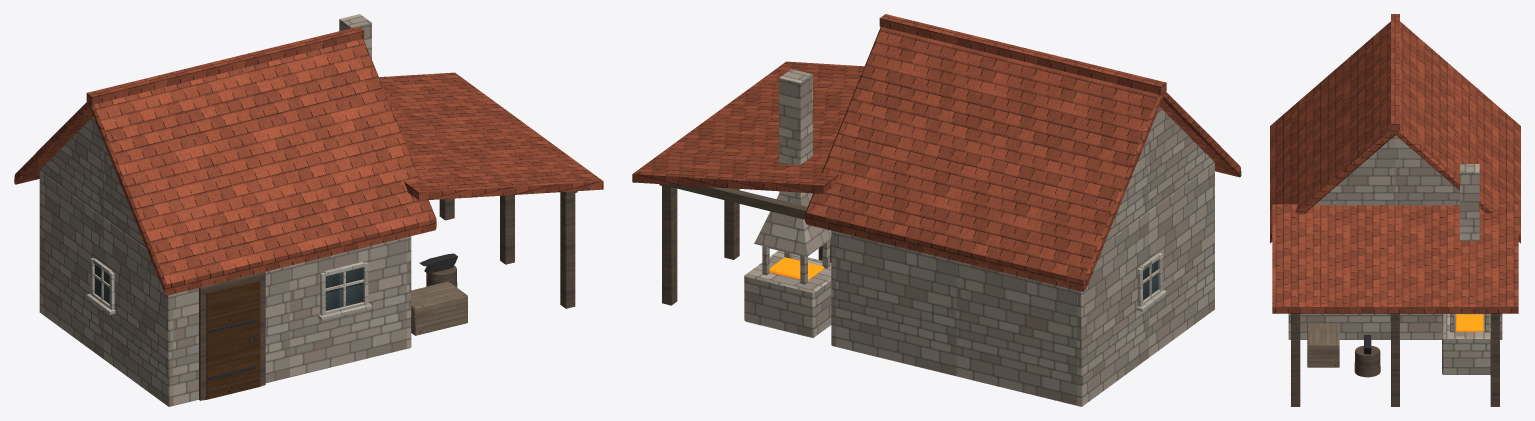
The model's file is smithy.glb.
3 renders of one model, left to right at view 1: azimuth 30°, elevation 25°; view 2: azimuth 150°, elevation 25°; view 3: azimuth 270°, elevation 25°, orthographic. The views are drawn at different scales.
Parts seen in each view (by area): view 1: Smithy; view 2: Smithy; view 3: Smithy.
Part boxes in pixels (x1,y1,x2,y2): Smithy: (14,14,603,406); Smithy: (632,14,1241,406); Smithy: (1270,14,1520,406).
Bounding box in the file's own units: 9.05 × 5.29 × 5.4.
Materials: 10 (7 with a texture image).
